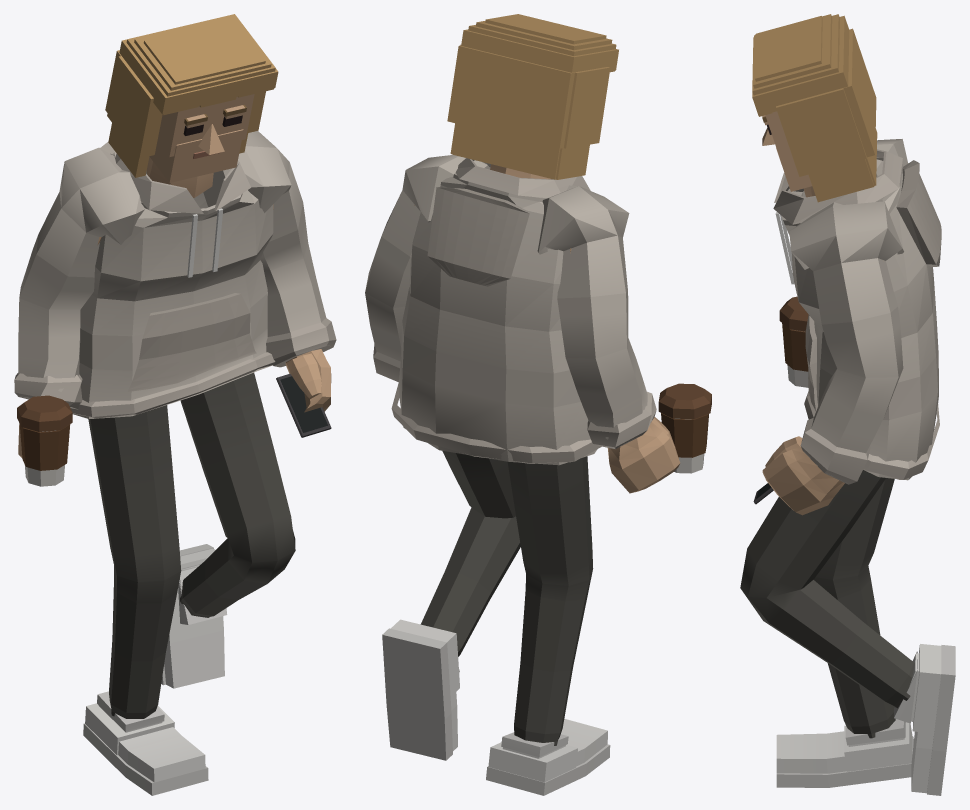
Rendered from student-in-a-hoodie-7c8223__walk6.glb.
3 views of the same model, side by side, from view 1: azimuth 30°, elevation 25°; view 2: azimuth 150°, elevation 25°; view 3: azimuth 270°, elevation 25° (orthographic). The views are drawn at different scales.
Visible parts, largest first — view 1: student-in-a-hoodie-7c8223__walk6; view 2: student-in-a-hoodie-7c8223__walk6; view 3: student-in-a-hoodie-7c8223__walk6.
Boxes of the visible parts, left/top/right/bottom form: student-in-a-hoodie-7c8223__walk6: left=14, top=14, right=336, bottom=795; student-in-a-hoodie-7c8223__walk6: left=365, top=14, right=711, bottom=795; student-in-a-hoodie-7c8223__walk6: left=740, top=14, right=955, bottom=795.
Bounding box in the file's own units: 0.802 × 1.73 × 0.4496.
